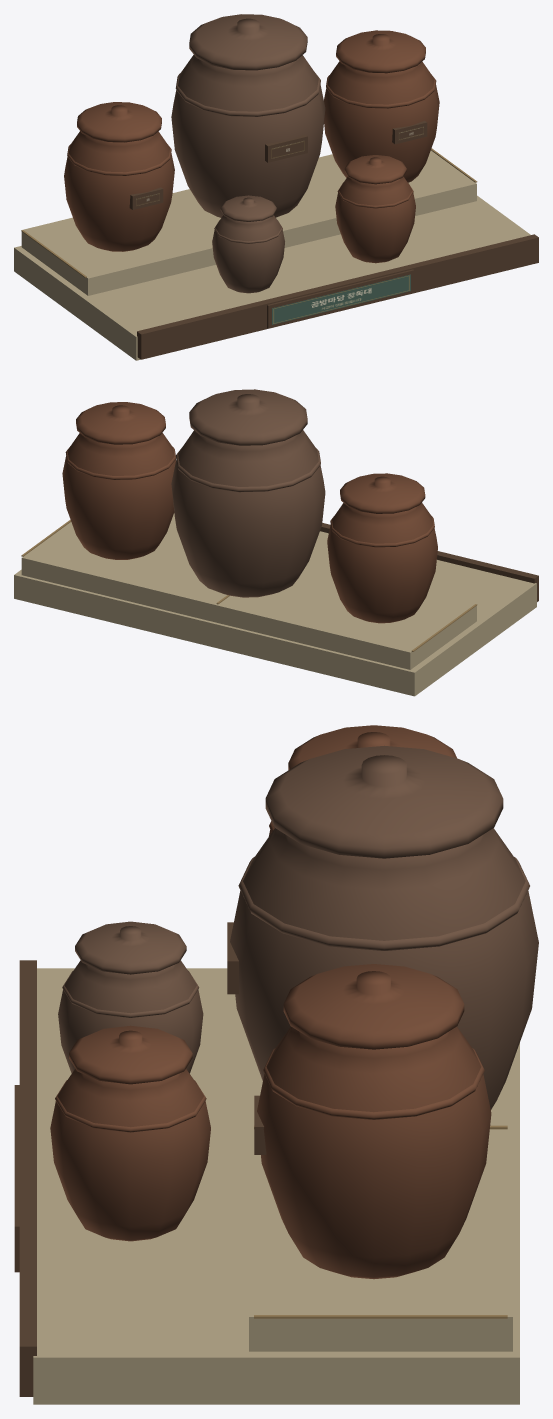
The model's file is L01_Onggi_Terrace.fbx.
The picture shows the model from 3 angles, top to bottom: view 1: azimuth 30°, elevation 25°; view 2: azimuth 150°, elevation 25°; view 3: azimuth 270°, elevation 25°; orthographic projection. The views are drawn at different scales.
Visible parts, largest first — view 1: Structure, Jar_2_Body, Jar_1_Body, Jar_3_Body, Jar_5_Body, Jar_2_Lid, Jar_4_Body, Jar_3_Lid, Jar_1_Lid, Jar_5_Lid, Jar_4_Lid; view 2: Structure, Jar_2_Body, Jar_3_Body, Jar_1_Body, Jar_2_Lid, Jar_3_Lid, Jar_1_Lid; view 3: Structure, Jar_3_Body, Jar_2_Body, Jar_5_Body, Jar_2_Lid, Jar_3_Lid, Jar_4_Body, Jar_5_Lid, Jar_4_Lid, Jar_1_Lid.
Boxes of the visible parts, box(x1,y1,x2,y2) form: Structure: box(14, 148, 538, 360); Jar_2_Body: box(171, 54, 325, 217); Jar_1_Body: box(64, 131, 174, 251); Jar_3_Body: box(324, 61, 439, 182); Jar_5_Body: box(335, 176, 415, 263); Jar_2_Lid: box(189, 14, 307, 70); Jar_4_Body: box(212, 215, 284, 293); Jar_3_Lid: box(336, 30, 425, 73); Jar_1_Lid: box(77, 102, 161, 142); Jar_5_Lid: box(344, 155, 406, 184); Jar_4_Lid: box(220, 195, 276, 221); Structure: box(14, 513, 538, 696); Jar_2_Body: box(171, 430, 325, 597); Jar_3_Body: box(62, 433, 175, 559); Jar_1_Body: box(327, 503, 437, 623); Jar_2_Lid: box(189, 389, 307, 445); Jar_3_Lid: box(76, 402, 165, 444); Jar_1_Lid: box(340, 473, 425, 513); Structure: box(14, 960, 519, 1404); Jar_3_Body: box(254, 1026, 491, 1279); Jar_2_Body: box(227, 828, 538, 1109); Jar_5_Body: box(50, 1068, 210, 1241); Jar_2_Lid: box(265, 745, 503, 858); Jar_3_Lid: box(283, 964, 464, 1049); Jar_4_Body: box(58, 960, 203, 1073); Jar_5_Lid: box(69, 1025, 192, 1084); Jar_4_Lid: box(75, 921, 186, 974); Jar_1_Lid: box(288, 725, 456, 769).
Bounding box in the file's own units: 265 × 141 × 151.
1 material, 1 textured.
